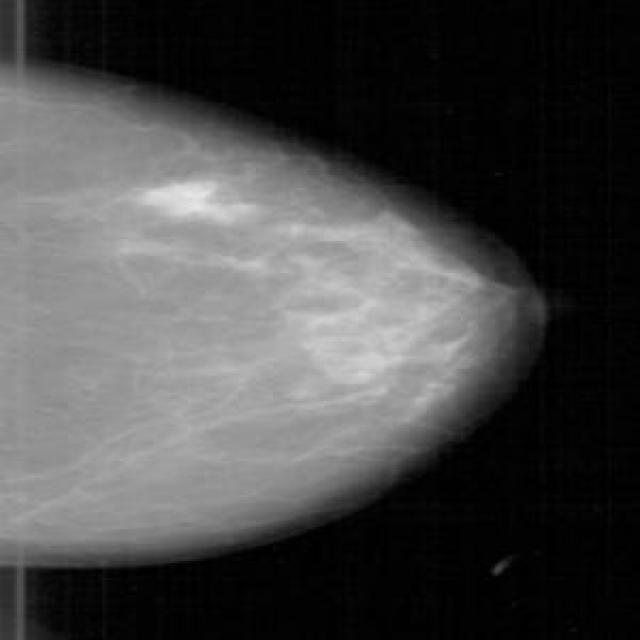tumor: (312, 206, 470, 413), (112, 157, 270, 238)
